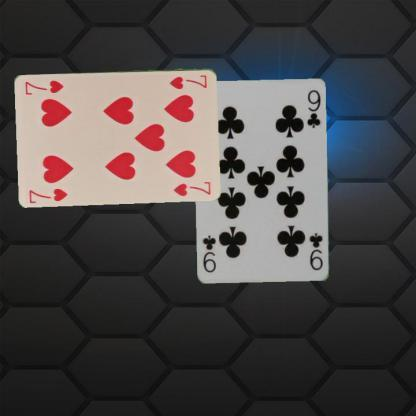7h: (27, 185, 70, 204), (168, 72, 209, 90)
9c: (306, 230, 324, 272)
